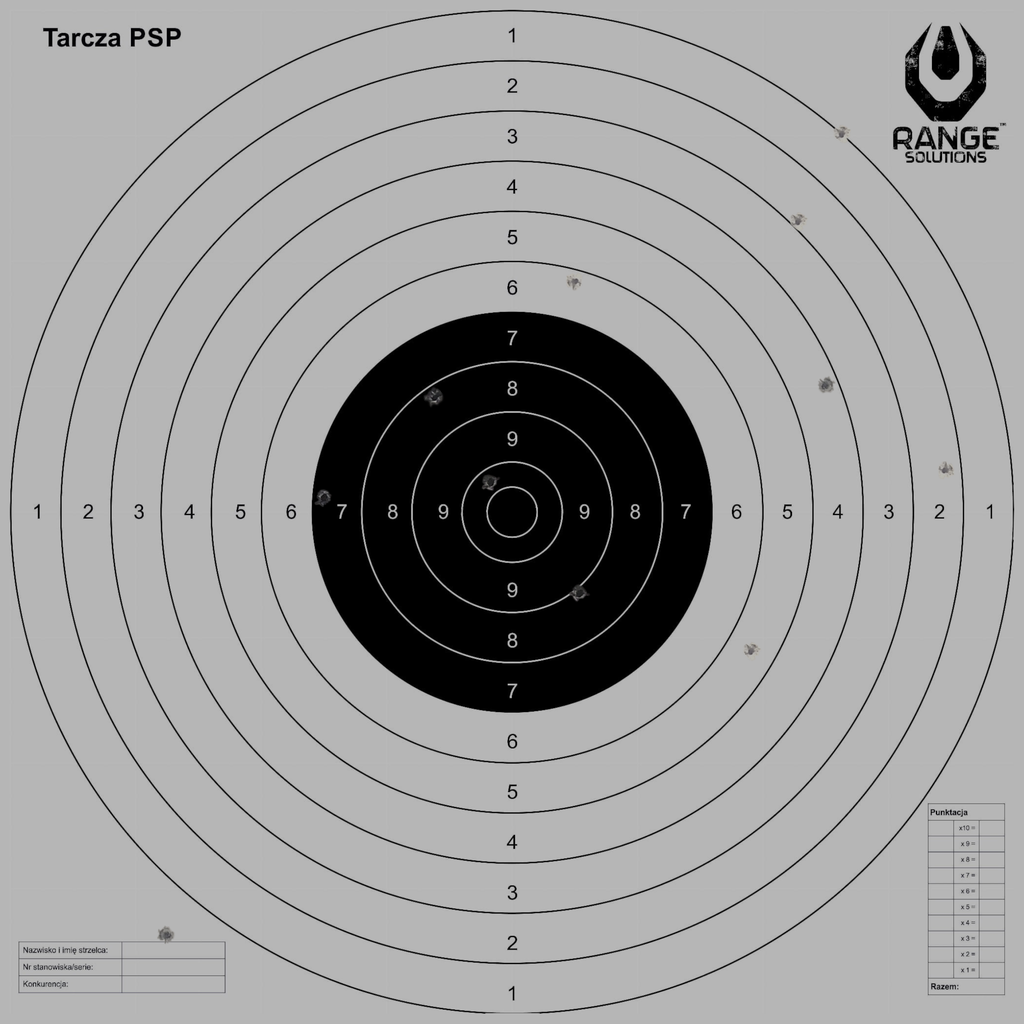0 punktow: (157, 926, 176, 944)
1 punkt: (832, 125, 851, 143)
10 punktow: (481, 473, 500, 492)
2 punkty: (936, 461, 954, 479)
3 punkty: (789, 212, 807, 231)
4 punkty: (816, 376, 835, 395)
5 punktow: (742, 642, 760, 660)
6 punktow: (566, 272, 584, 291)
7 punktow: (315, 489, 333, 507)
8 punktow: (425, 389, 444, 407)
9 punktow: (570, 584, 589, 603)
